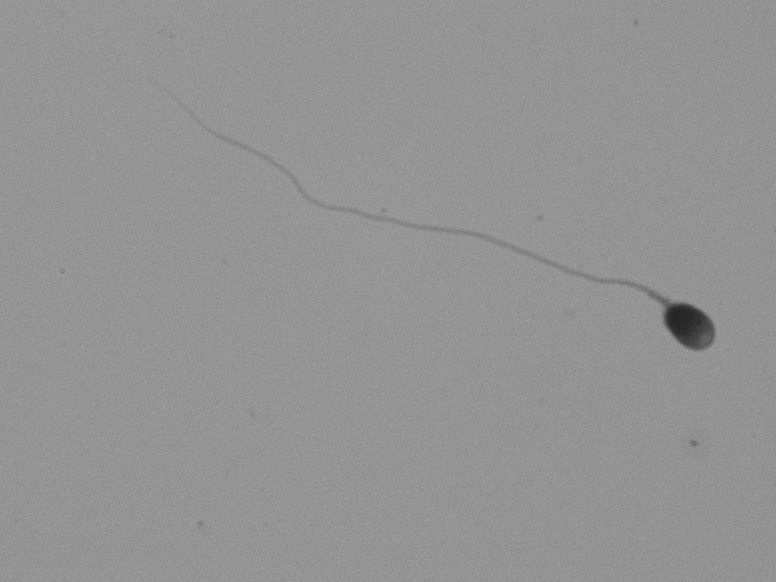Normal: (165, 71, 761, 370)
